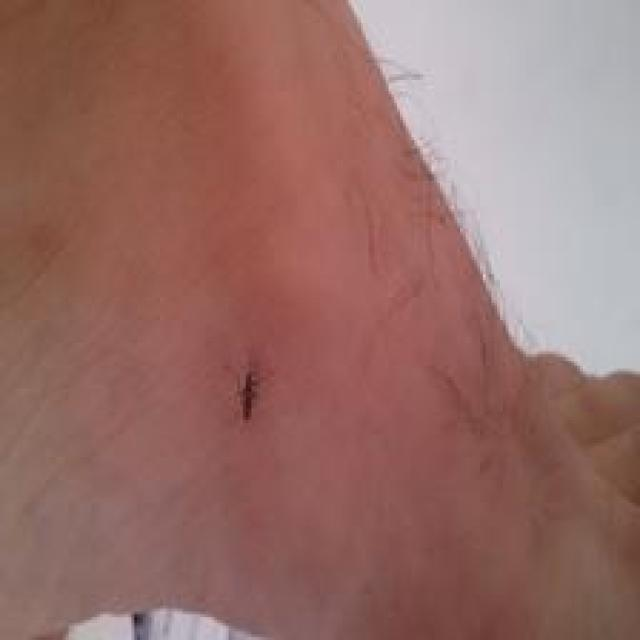Aedes albopictus: (234, 370, 260, 421)
